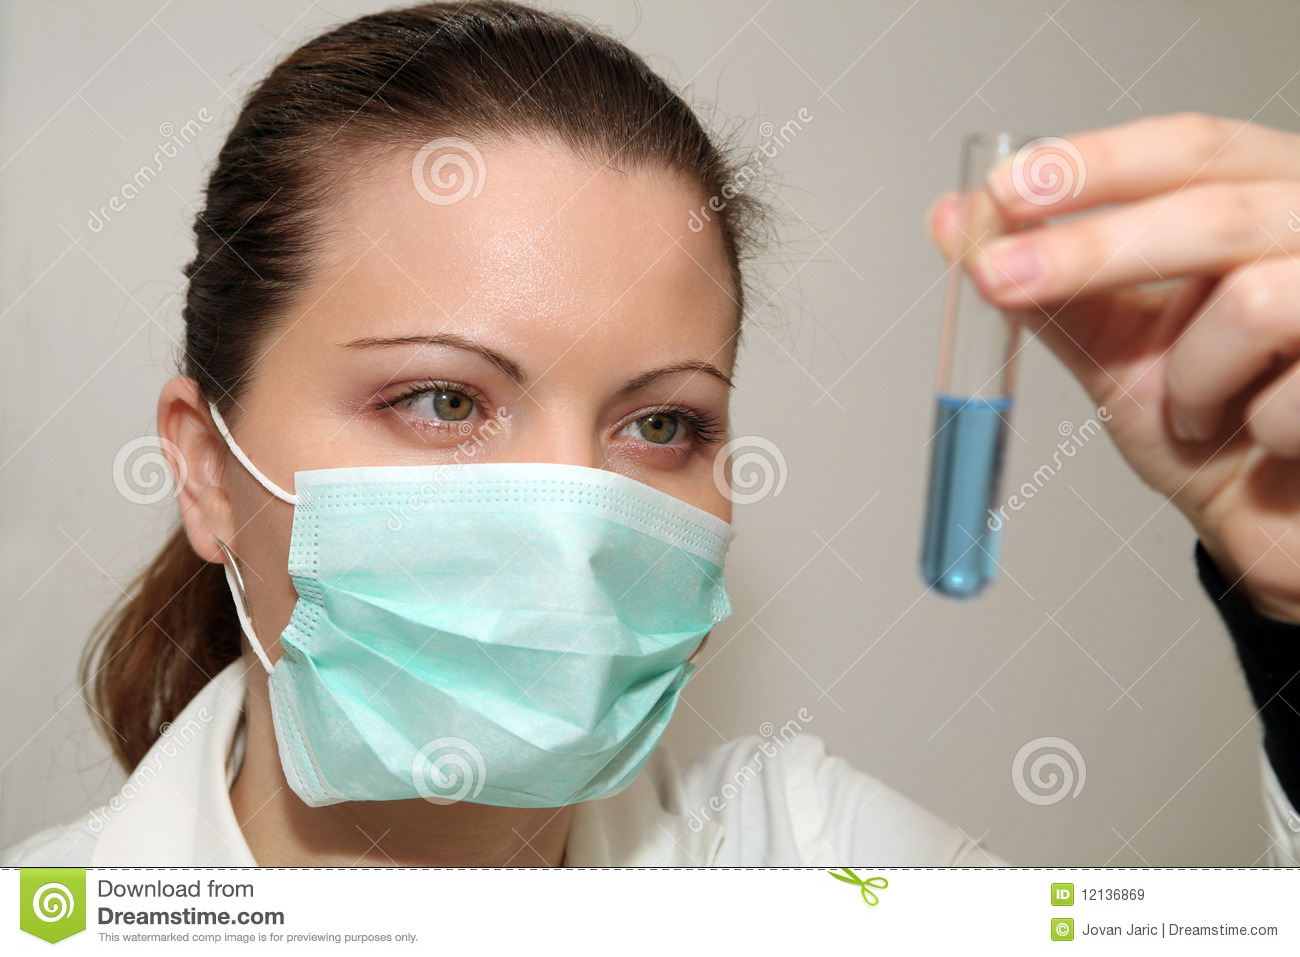mask: (264, 460, 758, 816)
